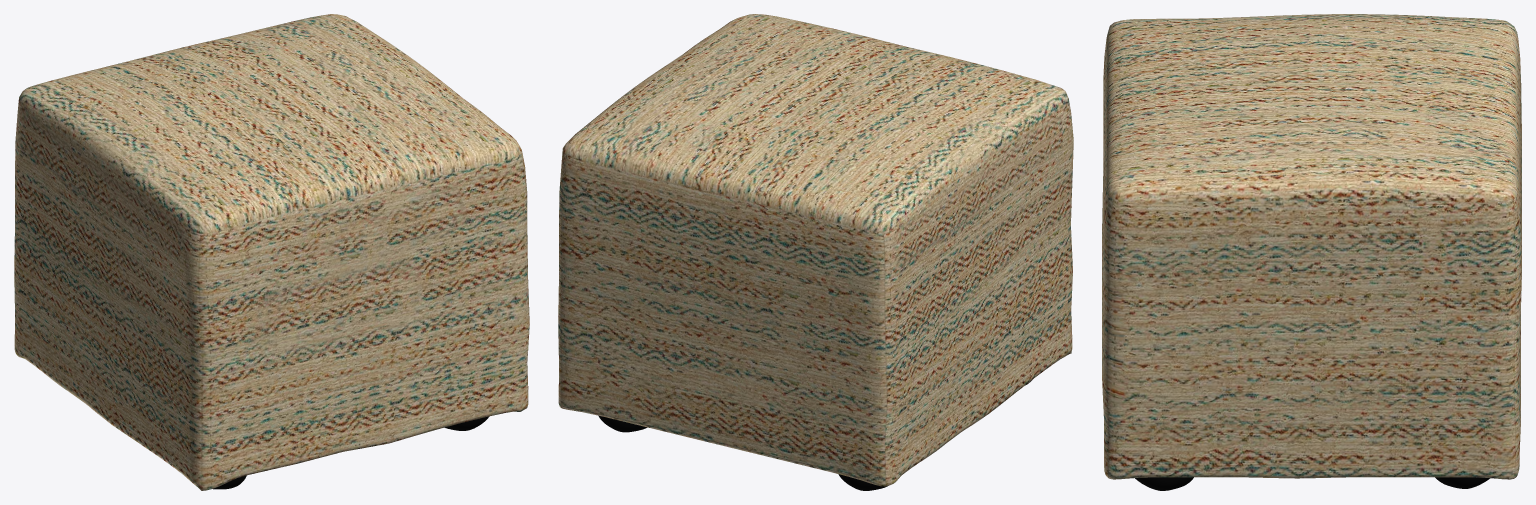
Rendered from pouf-boho.glb.
3 renders of one model, left to right at view 1: azimuth 30°, elevation 25°; view 2: azimuth 150°, elevation 25°; view 3: azimuth 270°, elevation 25°, orthographic. The views are drawn at different scales.
Parts seen in each view (by area): view 1: RootNode; view 2: RootNode; view 3: RootNode.
Part boxes in pixels (x1,y1,x2,y2): RootNode: [14, 14, 529, 490]; RootNode: [558, 14, 1073, 490]; RootNode: [1102, 14, 1521, 490].
Bounding box in the file's own units: 0.5211 × 0.4528 × 0.512.
Materials: 1 (1 with a texture image).
